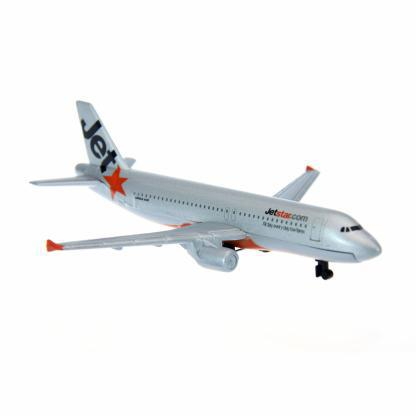CIV_Plane: (27, 87, 384, 288)
